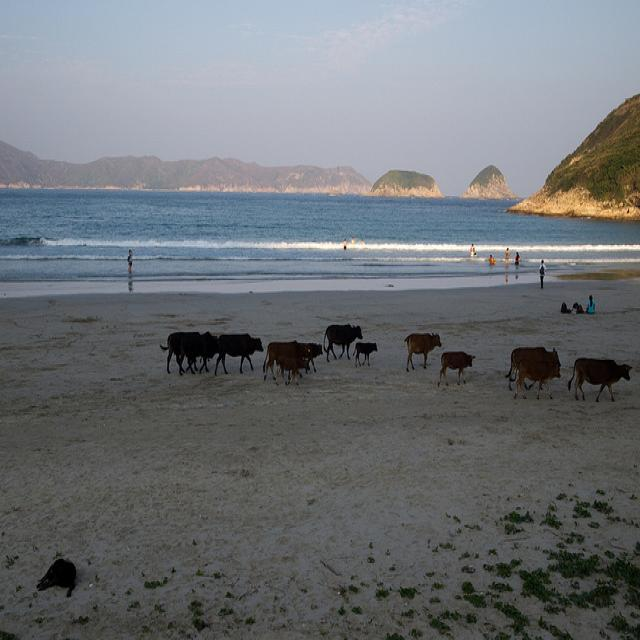cow: (156, 331, 546, 390), (567, 356, 631, 399), (212, 332, 263, 377), (512, 356, 561, 398), (176, 329, 217, 374), (262, 339, 309, 378), (322, 322, 362, 360), (504, 347, 559, 374), (436, 349, 475, 384), (403, 332, 442, 367), (292, 338, 322, 373), (274, 356, 309, 384), (352, 340, 376, 364)
